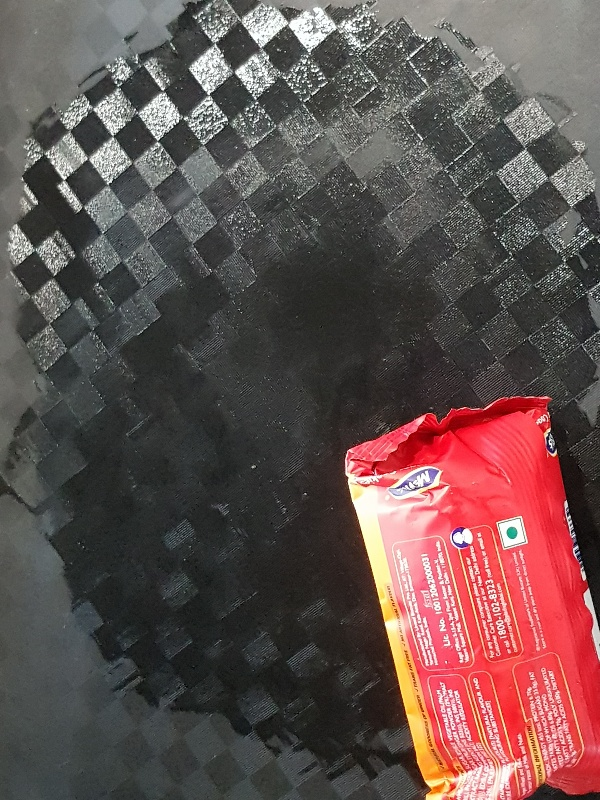McVitie's Ginger Cookies: (341, 395, 599, 800)
